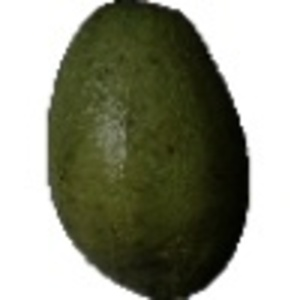abacate: (41, 1, 253, 291)
